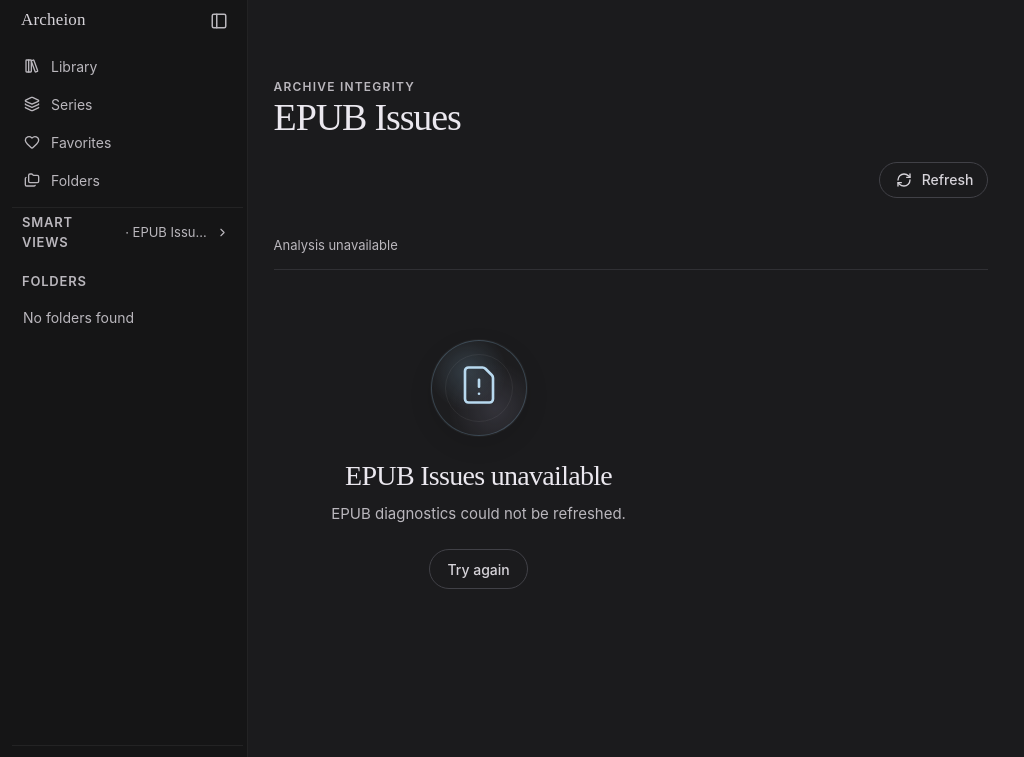
it: LibraryPage EPUB Issues integration › keeps ordinary Library navigation usable after initial diagnostics failure
Click the button "Library" at (124,66), box [12, 48, 235, 84]
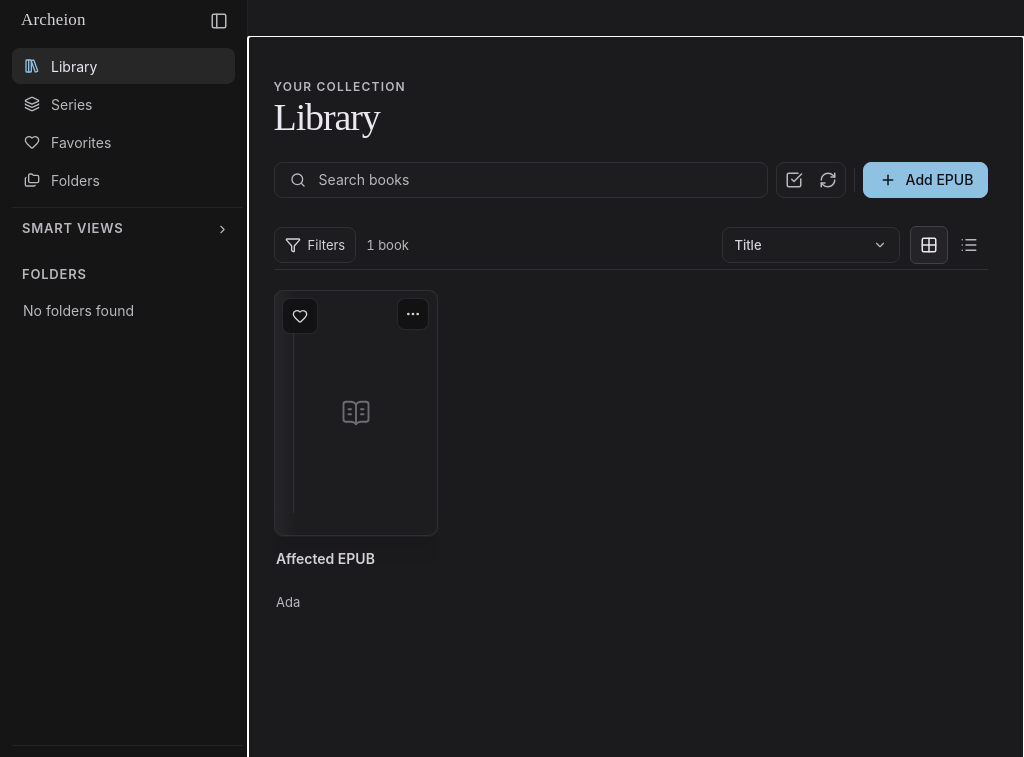
Check: the element showing "Affected EPUB Ada" is shown, box [274, 290, 437, 613]
Check: the text "Affected EPUB" is shown, box [276, 549, 374, 566]
